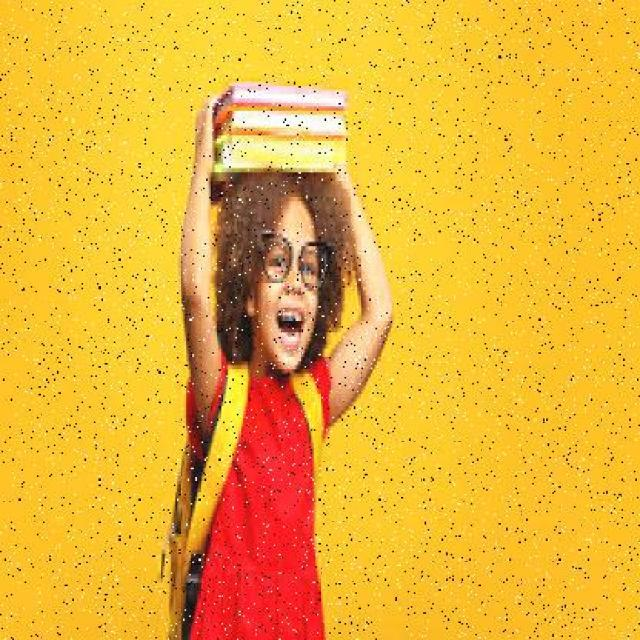glasses: (242, 229, 336, 300)
